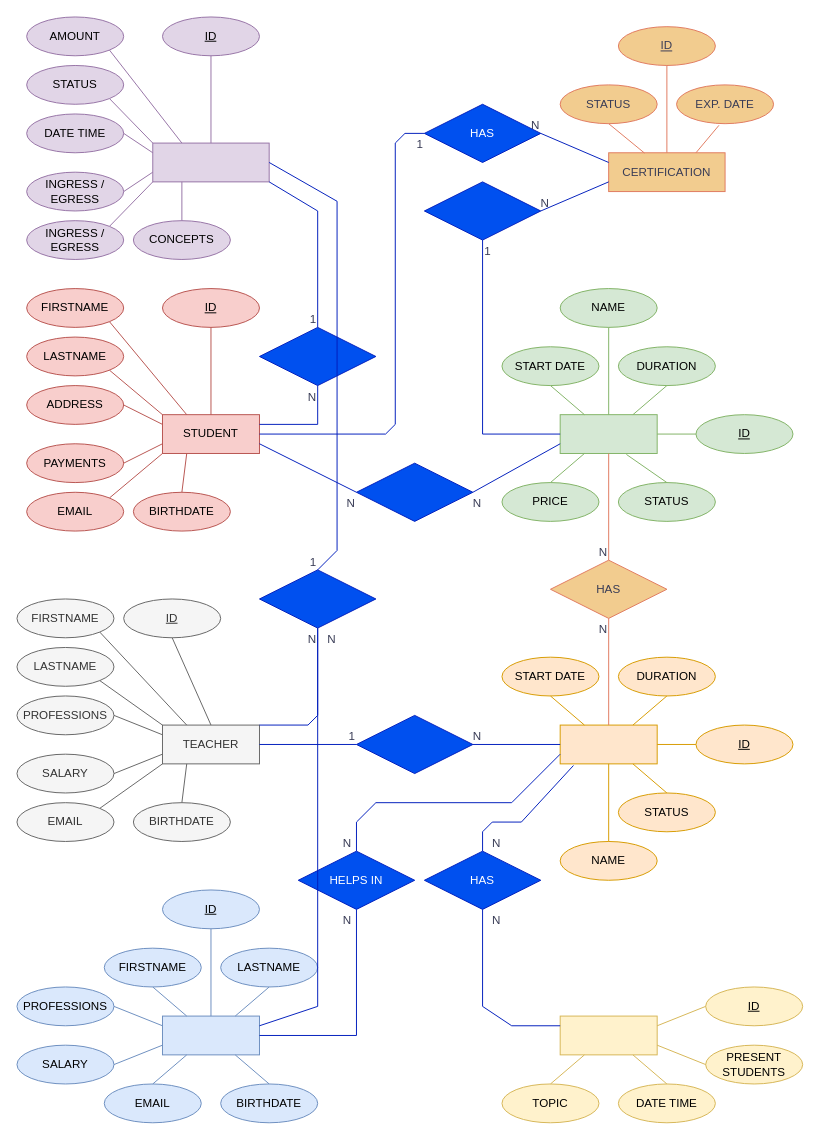
This 820x1140 diagram has some shape labels left out. Here are the shapes that lost their labels. From the top down, the centre of each, then its label:
pixel 210 162: PAYMENT
pixel 482 210: REPRESENTS
pixel 317 356: MAKE
pixel 608 433: COURSE
pixel 414 491: REGISTER
pixel 317 598: RECIEVES
pixel 414 744: TEACHS
pixel 608 744: SUBJECT
pixel 210 1035: TUTOR
pixel 608 1035: LESSON
